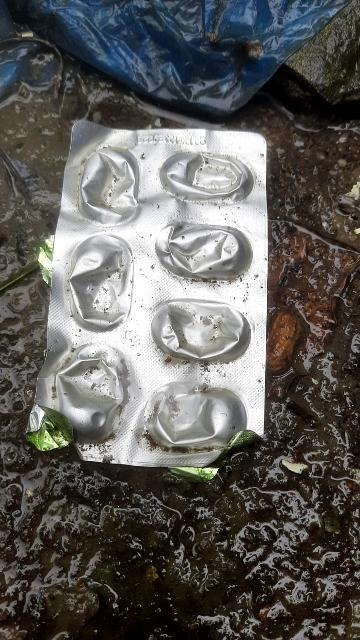medicine: (51, 106, 277, 479)
